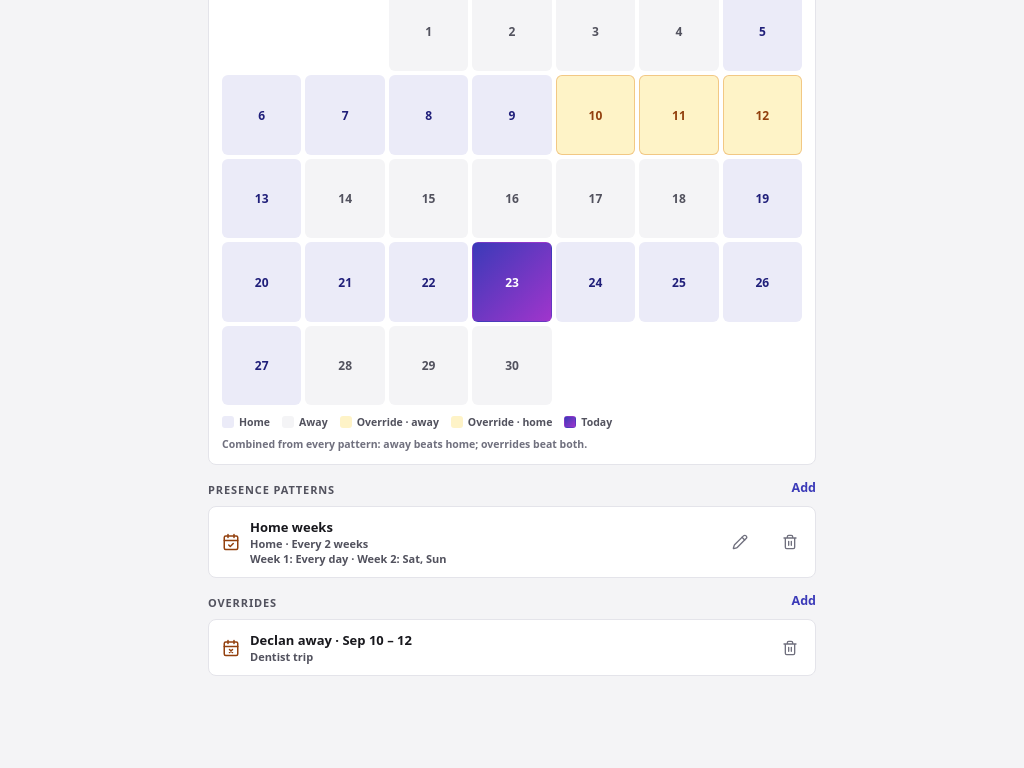
OverrideEditor › a stale consequence response never overwrites a newer one
The width and height of the screenshot is (1024, 768).
(page scrolled)
Check: the list item with test id "pattern-1" is shown, box [209,507,815,577]
Click the 2nd button "Add": (804, 599) [792,588,816,609]
(page scrolled)
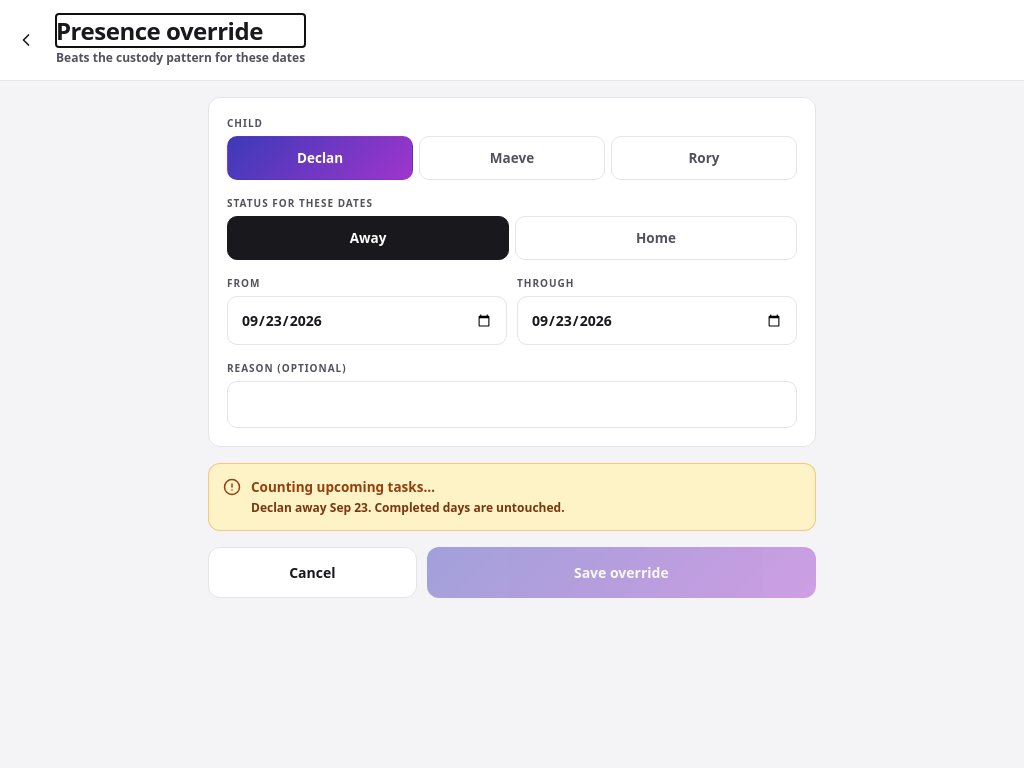
Check: the heading "Presence override" is shown, box [56,14,263,47]
In the date field labelled "Through": (657, 320) [517,296,797,345], type "2026-09-26"
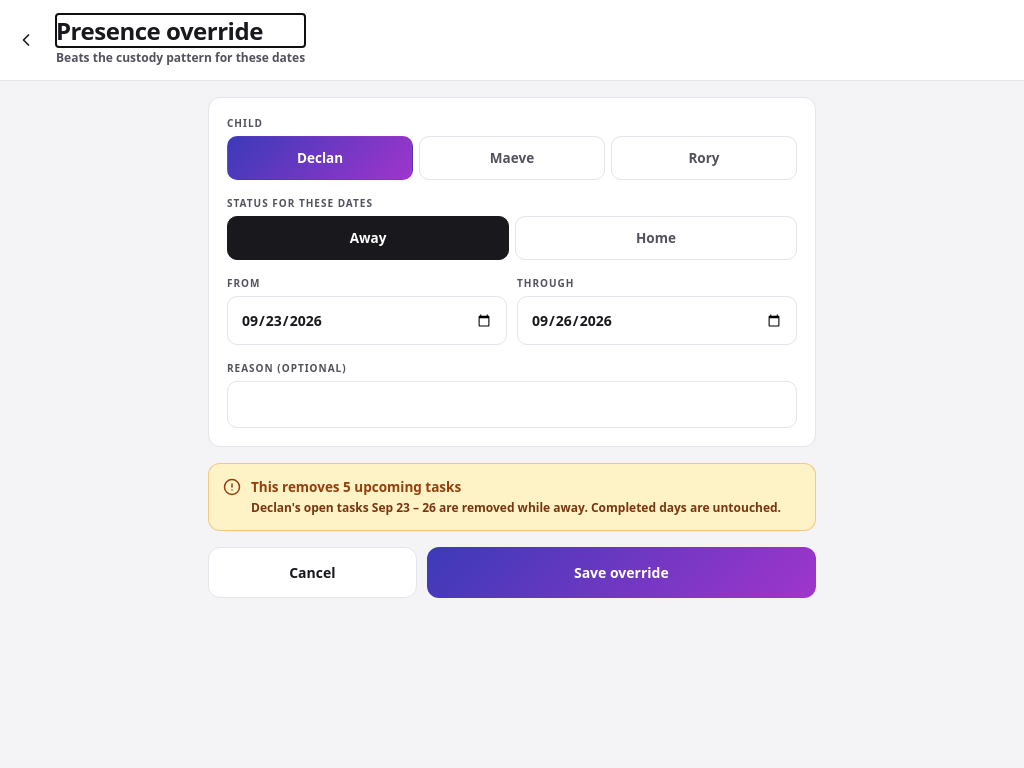
Check: the text with test id "override-consequence-headline" reads "This removes 5 upcoming tasks", box [251,478,461,496]
